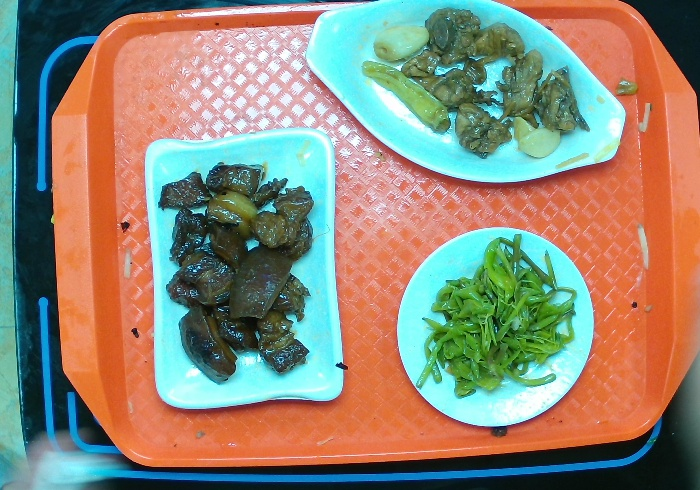RJxy-Si_Fang_Ao_Bian_Wan: (147, 122, 349, 415)
RJxy-Xiao_Yuan_Die: (395, 224, 596, 428)
RJxy-Yu_Pan: (310, 1, 632, 193)
